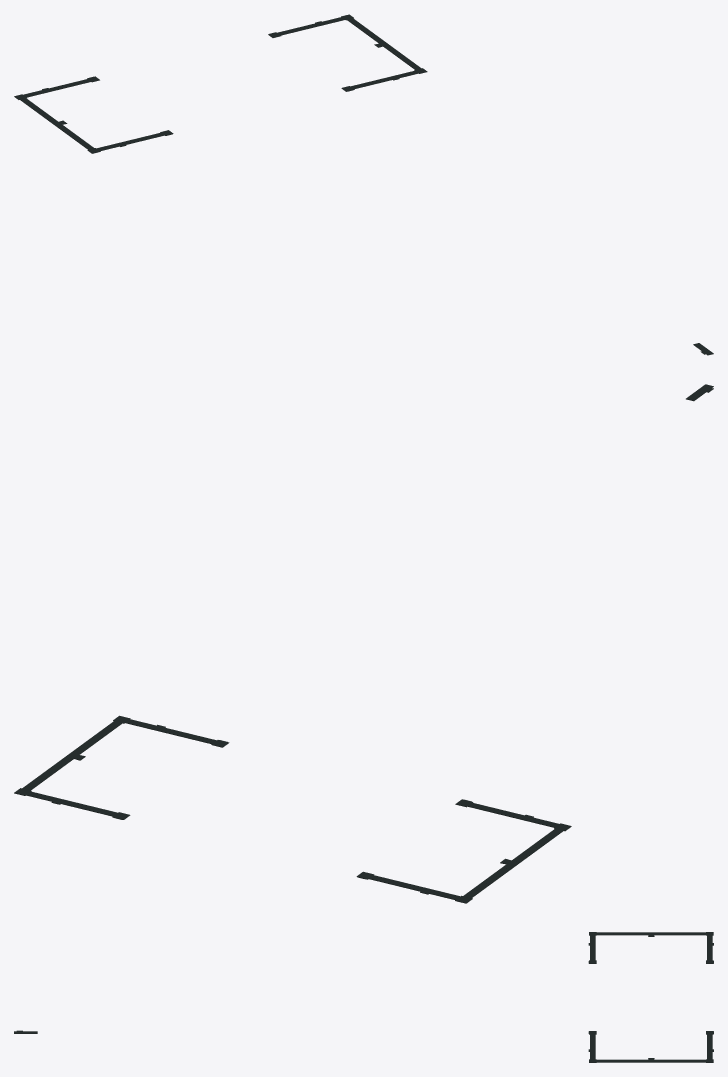
File: AST-STF-G3-027.glb
3 views of the same model, one above another, from view 1: azimuth 30°, elevation 25°; view 2: azimuth 150°, elevation 25°; view 3: azimuth 270°, elevation 25° (orthographic). The views are drawn at different scales.
Parts seen in each view (by area): view 1: floor_staff_rubber_missing_d03_floor; view 2: floor_staff_rubber_missing_d03_floor; view 3: floor_staff_rubber_missing_d03_floor.
Part boxes in pixels (x1,y1,x2,y2): floor_staff_rubber_missing_d03_floor: (14, 14, 713, 355); floor_staff_rubber_missing_d03_floor: (14, 384, 713, 903); floor_staff_rubber_missing_d03_floor: (14, 932, 713, 1062).
Size of the model in its own units: 211 by 0.24 by 479.
Materials: 1 (1 with a texture image).
